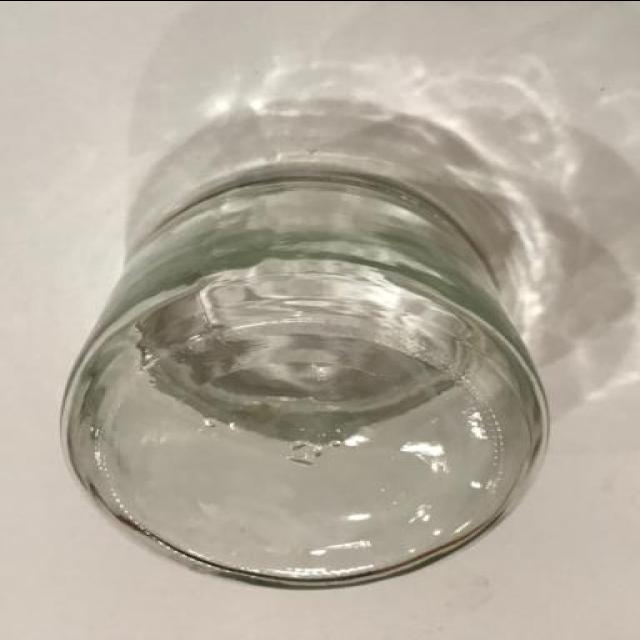litter: (60, 164, 558, 592)
